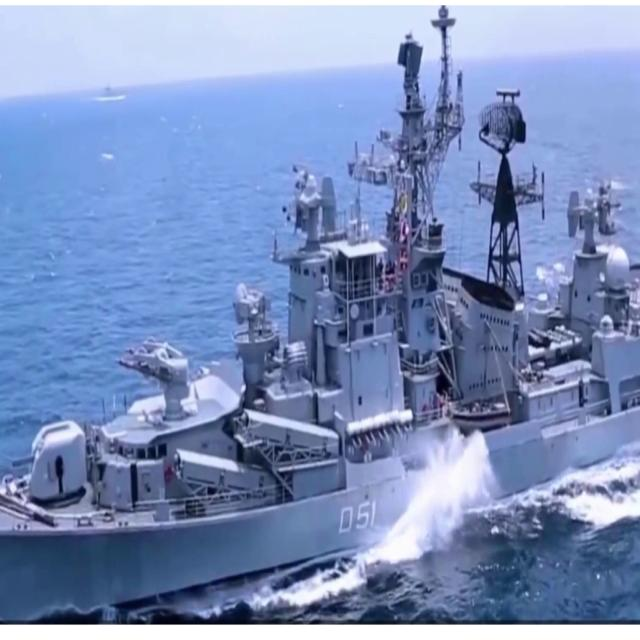OCR: (334, 489, 386, 548)
